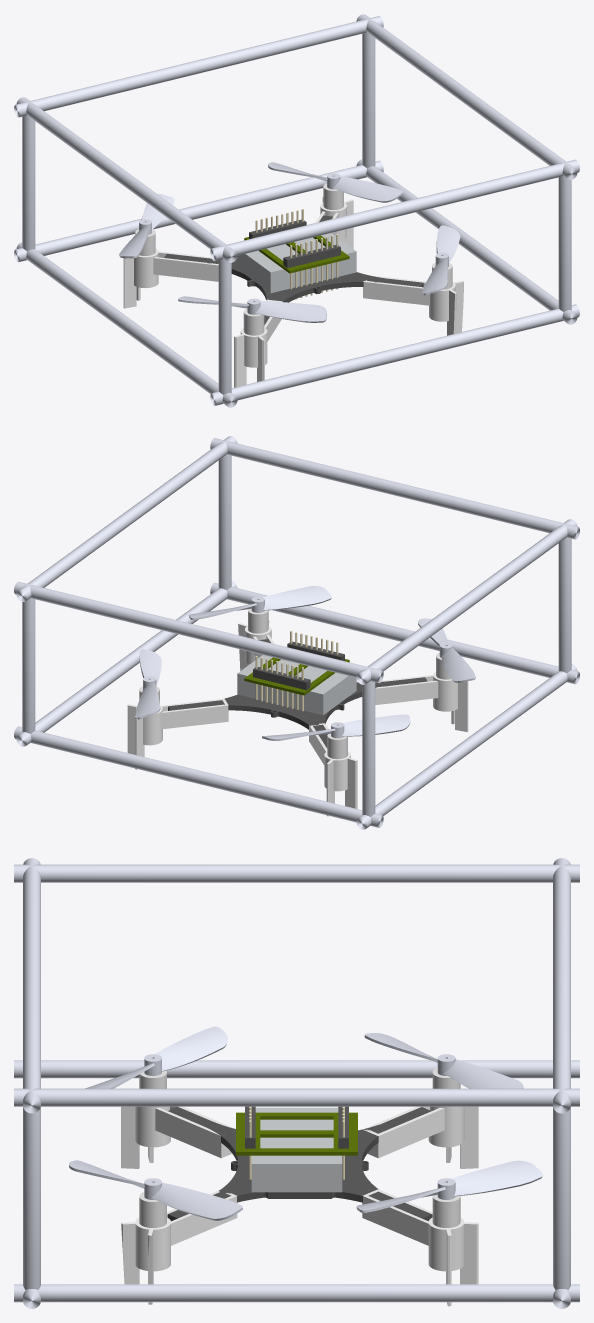
The picture shows the model from 3 angles, top to bottom: view 1: azimuth 30°, elevation 25°; view 2: azimuth 150°, elevation 25°; view 3: azimuth 270°, elevation 25°; orthographic projection. The views are drawn at different scales.
Parts seen in each view (by area): view 1: cy.004, cy.006, cy.001, cy.003, cy, cy.002, cy.008, Part1, cy.005, MotorMountsSlanted_006, pcb, cy.009 (+13 smaller); view 2: cy.006, cy.004, cy.003, cy.001, cy, cy.002, cy.008, cy.005, Part1, pcb, cy.011, cy.010 (+14 smaller); view 3: cy.002, cy, cy.005, cy.008, Part1, pcb, cy.004, cy.006, MotorMountsSlanted_006, Part3, cy.011, cy.009 (+12 smaller).
Boxes of the visible parts, <box> form: cy.004: <box>210,159,579,261</box>; cy.006: <box>14,16,383,117</box>; cy.001: <box>210,304,579,405</box>; cy.003: <box>14,160,383,262</box>; cy: <box>16,97,237,262</box>; cy.002: <box>356,14,577,179</box>; cy.008: <box>16,242,237,407</box>; Part1: <box>237,233,356,293</box>; cy.005: <box>356,159,577,324</box>; MotorMountsSlanted_006: <box>363,275,463,335</box>; pcb: <box>164,215,423,324</box>; cy.009: <box>558,176,571,311</box>; cy.006: <box>14,581,383,683</box>; cy.004: <box>210,438,579,539</box>; cy.003: <box>14,726,383,827</box>; cy.001: <box>210,582,579,684</box>; cy: <box>356,519,577,684</box>; cy.002: <box>16,436,237,601</box>; cy.008: <box>356,664,577,829</box>; cy.005: <box>16,581,237,746</box>; Part1: <box>237,655,356,715</box>; pcb: <box>168,639,427,748</box>; cy.011: <box>22,598,35,733</box>; cy.010: <box>558,537,571,673</box>; cy.002: <box>14,1088,579,1106</box>; cy: <box>14,864,579,882</box>; cy.005: <box>14,1284,579,1302</box>; cy.008: <box>14,1060,579,1078</box>; Part1: <box>251,1107,342,1192</box>; pcb: <box>167,1107,431,1221</box>; cy.004: <box>23,858,40,1113</box>; cy.006: <box>553,858,570,1113</box>; MotorMountsSlanted_006: <box>121,1190,237,1304</box>; Part3: <box>236,1112,357,1155</box>; cy.011: <box>553,1107,570,1289</box>; cy.009: <box>23,1107,40,1289</box>.
Bounding box in the file's own units: 0.126 × 0.126 × 0.0625.
